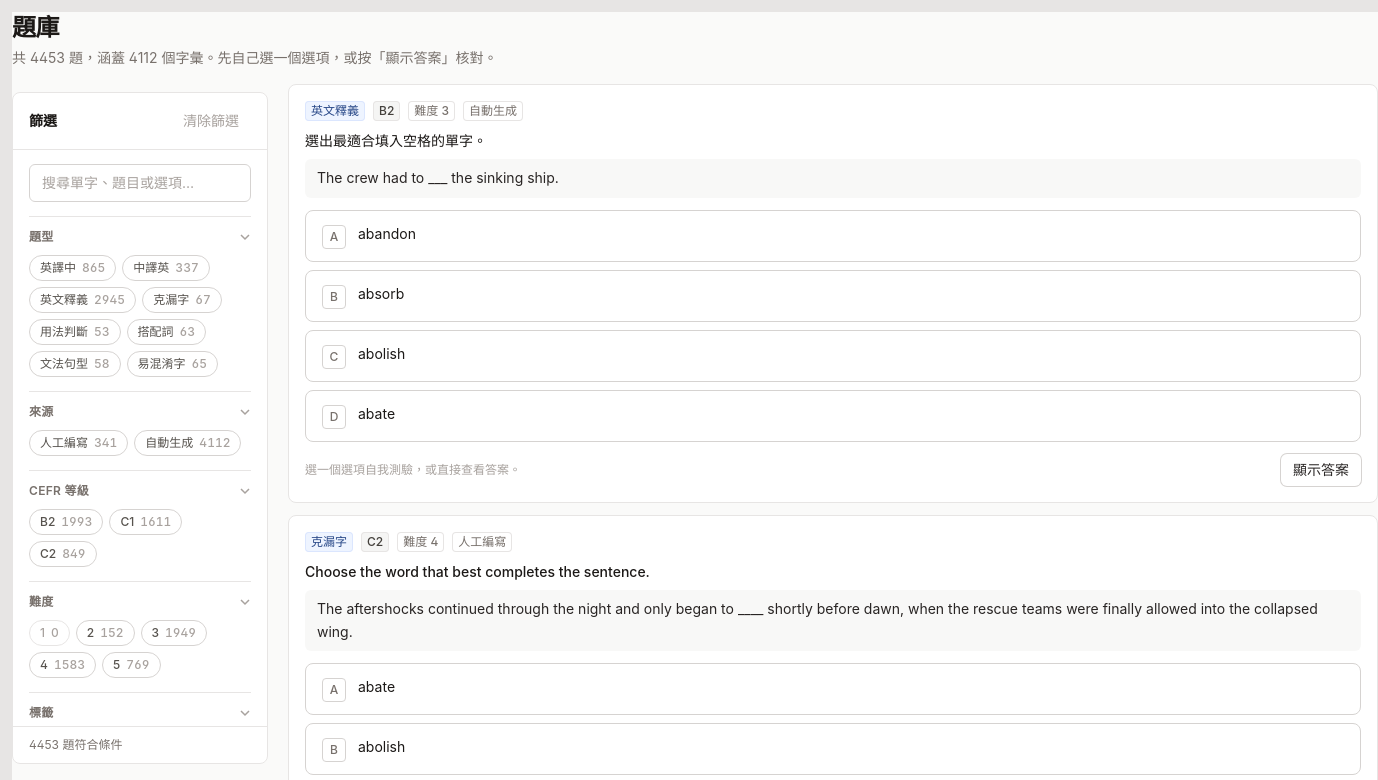
Test case: QuestionBankPage › reveals the answer only for the question whose button was pressed
This screenshot has width=1378, height=780.
expect the heading "題庫" is shown: met, box 12,13 -> 59,42
Click the button "顯示答案".
click(1321, 470)  # box 1281,454 -> 1361,486
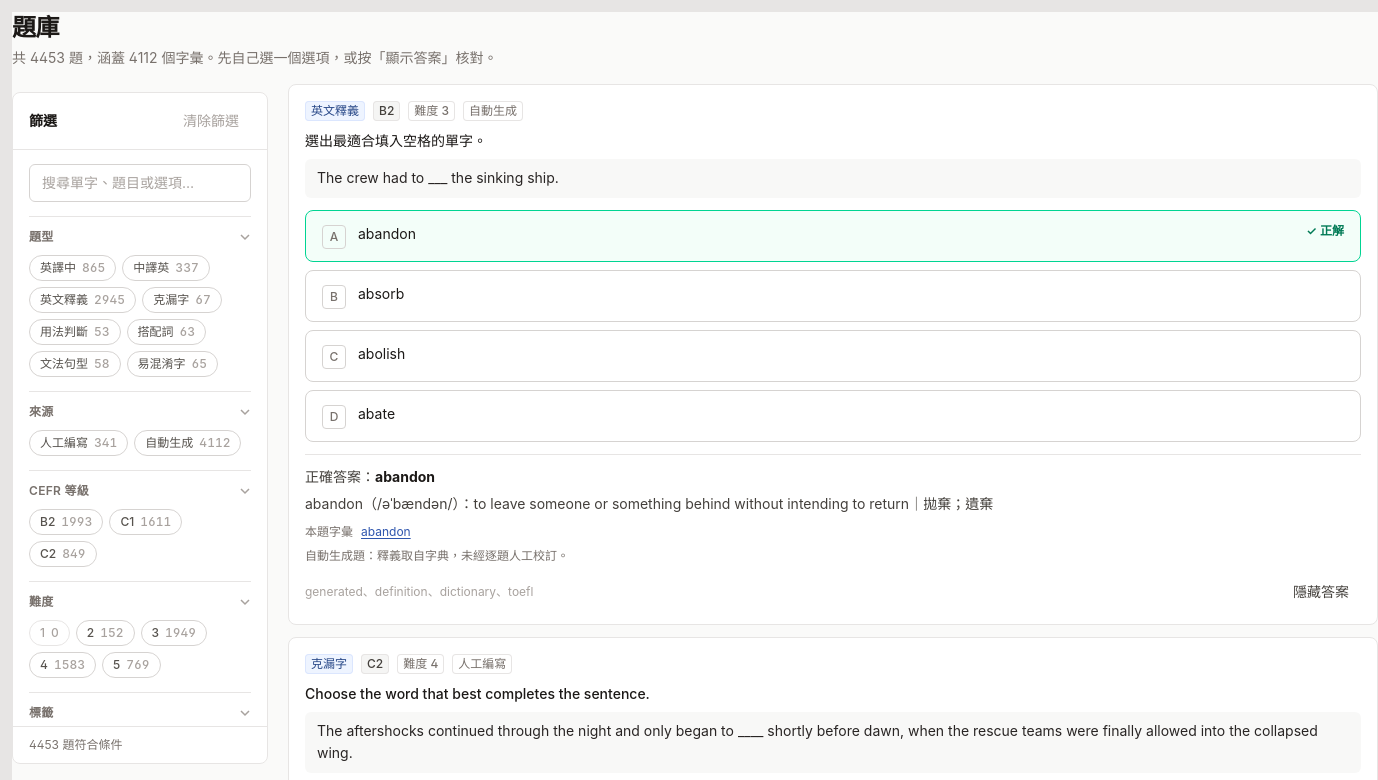
expect the text "正確答案：abandon" is shown once: met, box 305,468 -> 435,485
expect the text "✓ 正解" is shown: met, box 1306,223 -> 1344,239
